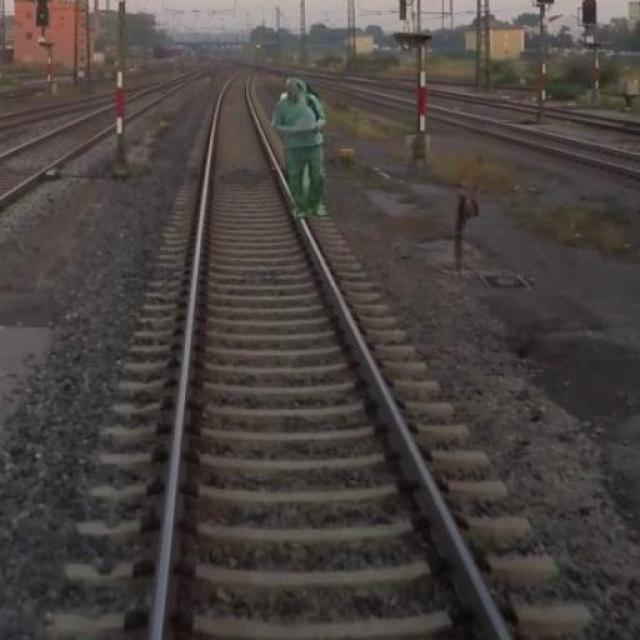people: (268, 71, 332, 224)
